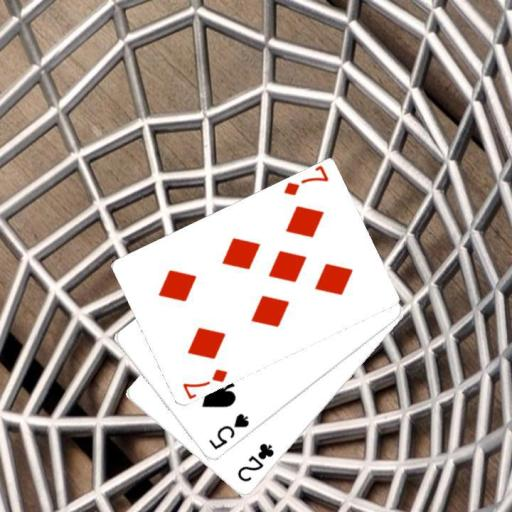2C: (234, 440, 276, 484)
5S: (206, 411, 251, 452)
7D: (179, 366, 229, 400), (280, 165, 330, 198)
